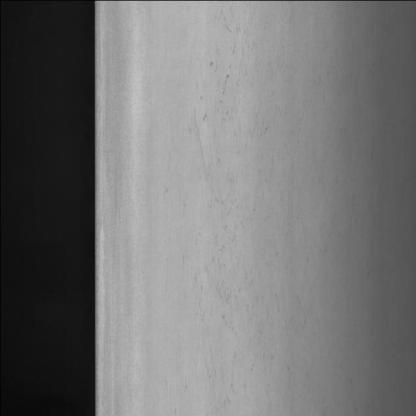silk_spot: (180, 60, 274, 400)
